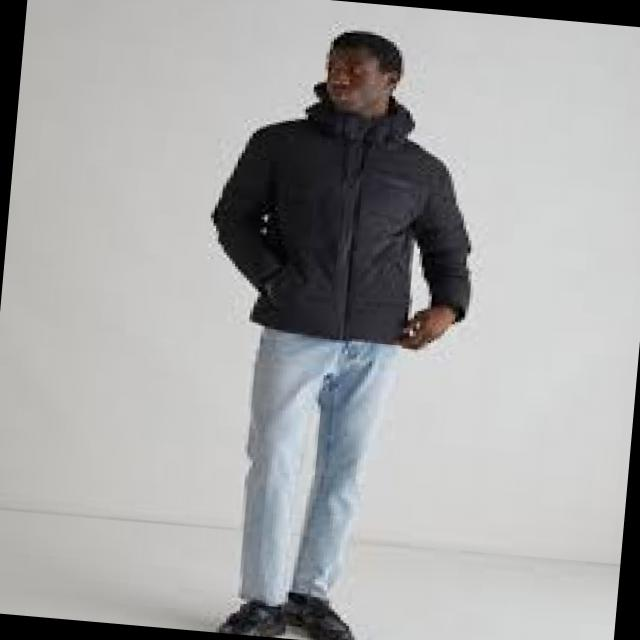Jacket: (203, 77, 480, 346)
